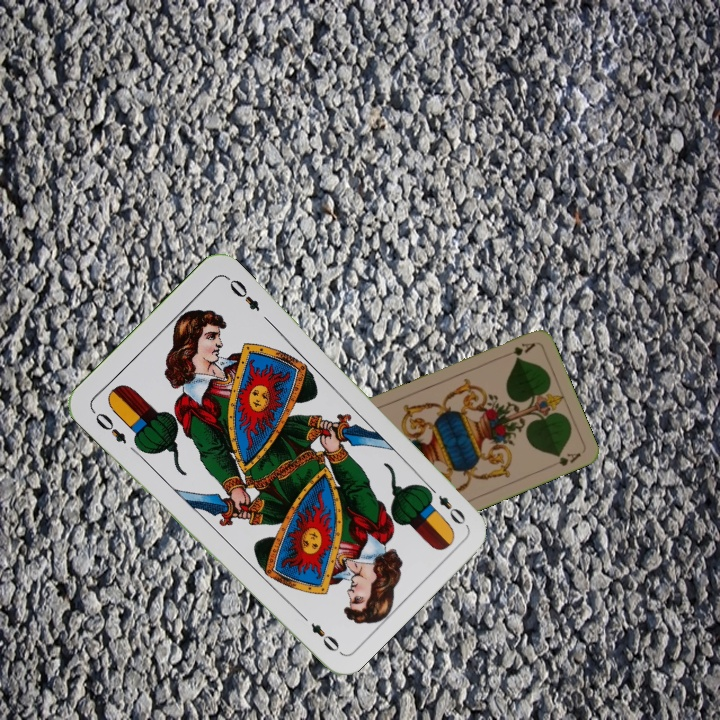EO: (421, 481, 469, 528), (88, 406, 130, 447)
GA: (499, 338, 538, 360)
